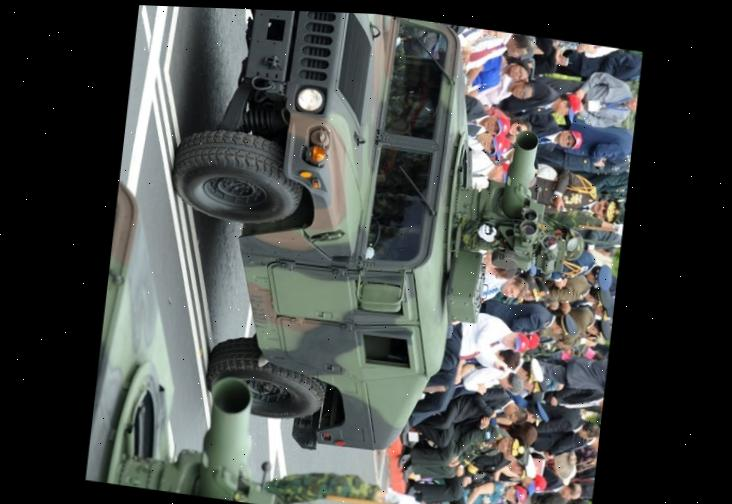armored_car: (140, 5, 508, 479)
